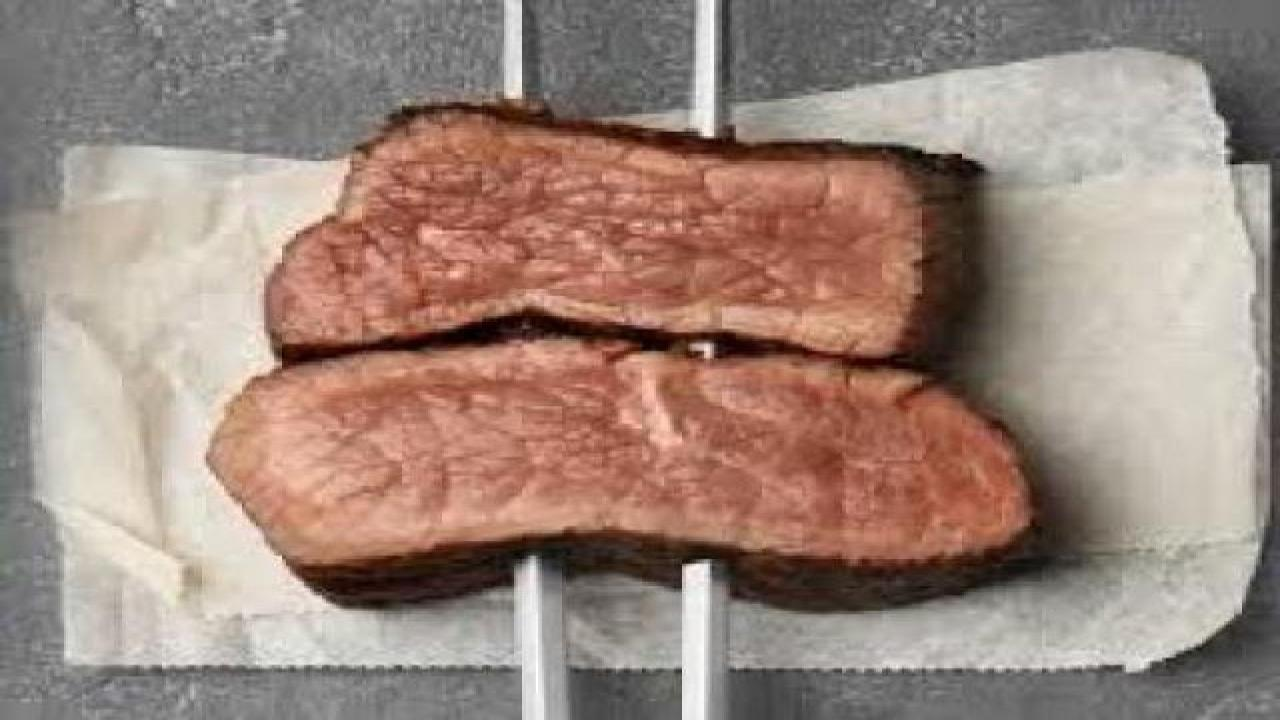Carne: (194, 333, 1154, 594), (239, 111, 1012, 344)
